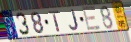3: (16, 12, 31, 37)
8: (100, 5, 114, 30), (31, 11, 45, 35)
E: (81, 5, 103, 33)
J: (68, 9, 80, 32)
T: (48, 10, 62, 34)
